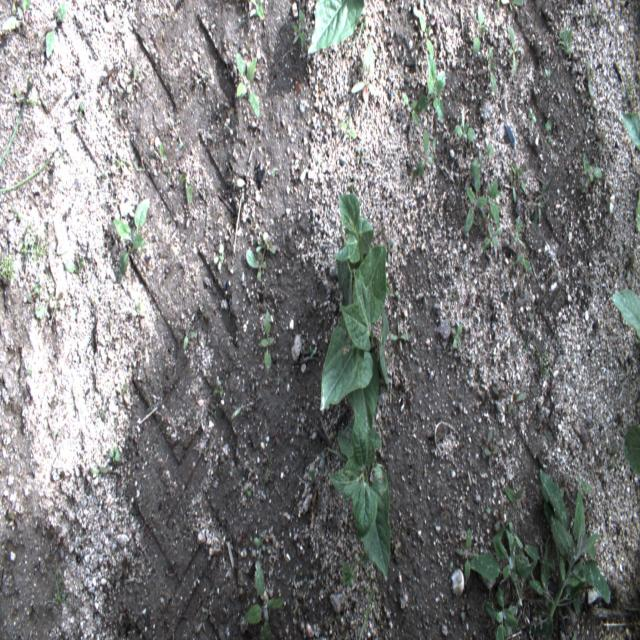crop: (322, 187, 392, 589), (608, 281, 640, 506), (307, 0, 366, 67)
weed: (469, 471, 616, 631), (2, 66, 65, 282), (105, 195, 151, 280), (464, 154, 504, 245), (241, 556, 286, 634), (235, 217, 276, 287), (474, 11, 501, 112), (350, 33, 384, 104), (234, 42, 260, 118), (424, 36, 446, 125), (454, 524, 488, 576), (44, 4, 70, 68), (289, 10, 315, 58), (510, 154, 534, 202), (258, 314, 276, 376), (418, 123, 440, 171), (453, 109, 482, 145), (579, 152, 612, 182), (396, 89, 419, 131), (558, 22, 575, 63)
